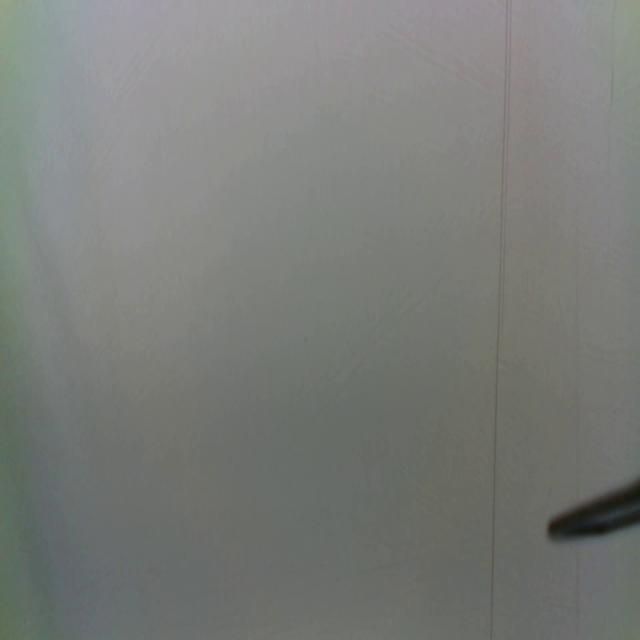crease: (488, 1, 514, 640), (573, 275, 582, 501), (574, 544, 583, 639)
